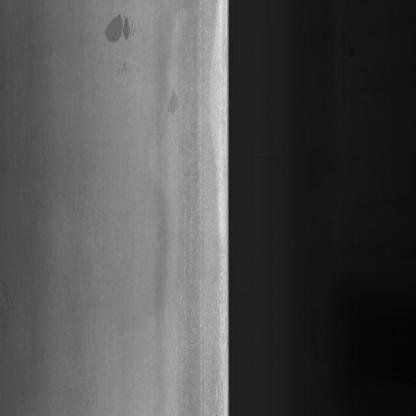oil_spot: (102, 8, 142, 71), (162, 84, 186, 117)
